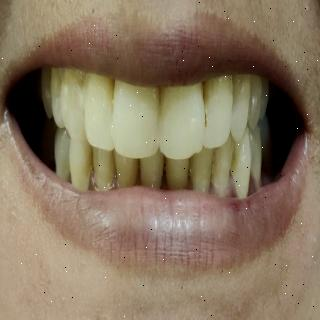plaque: (114, 79, 162, 154), (160, 81, 196, 156), (85, 68, 117, 144), (62, 56, 94, 120), (214, 71, 234, 131), (232, 72, 252, 126), (194, 75, 208, 132), (204, 140, 220, 188), (50, 66, 64, 113), (129, 155, 147, 187), (183, 157, 199, 191), (87, 148, 101, 185), (226, 146, 240, 182), (157, 156, 169, 192)
